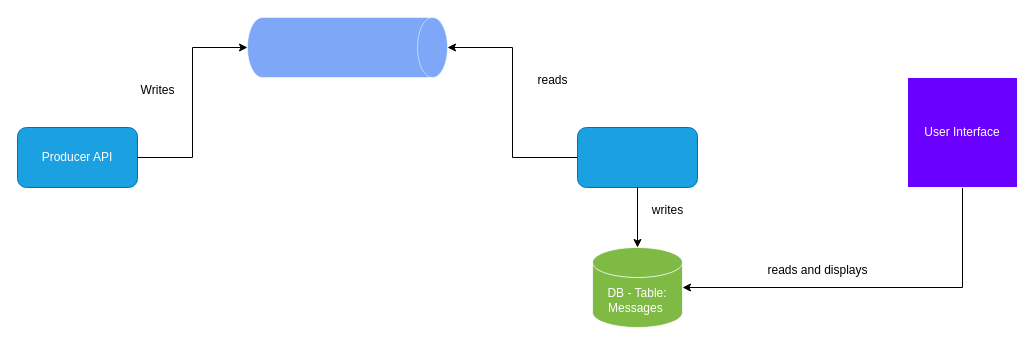
Some shapes in this 1035 by 345 pixel diagram are drawn without their labels. The centre of each missing label's shape, as x and y in pixels:
Consumer API: the point at 637,157
Kafka Topic: the point at 347,47
